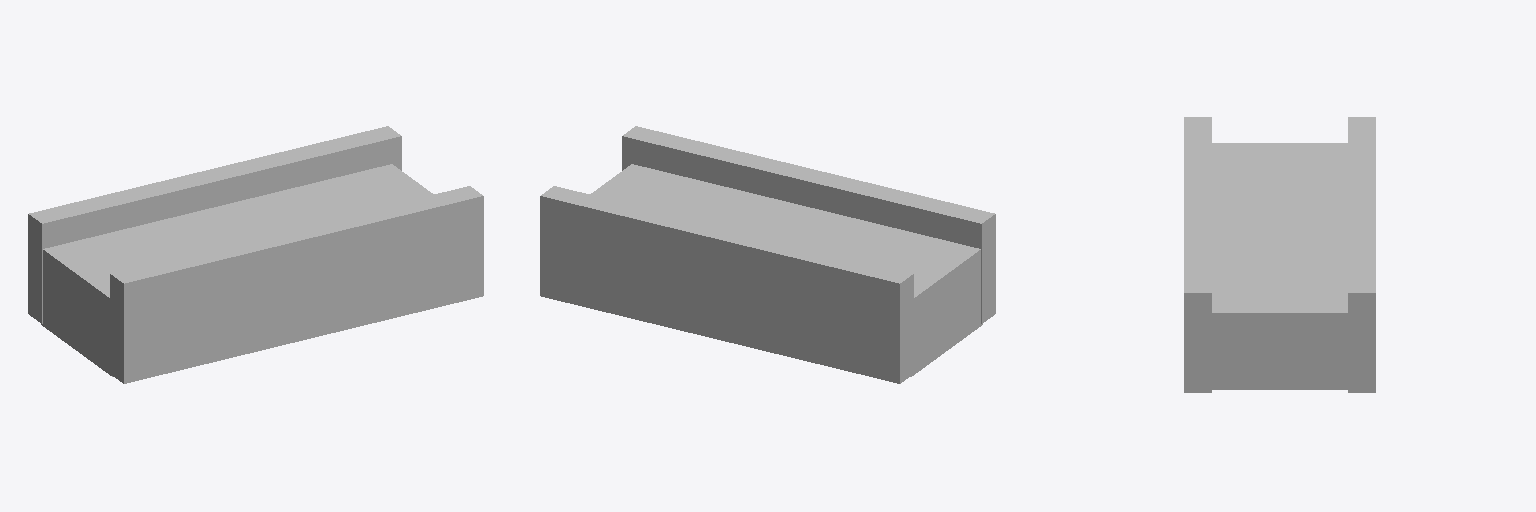
Rendered from AirlockHitbox.obj.
3 renders of one model, left to right at view 1: azimuth 30°, elevation 25°; view 2: azimuth 150°, elevation 25°; view 3: azimuth 270°, elevation 25°, orthographic.
Visible parts, largest first — view 1: Big_Cube_Cube.003, Cube.212_Cube.214, Cube.000_Cube.301, Cube.007_Cube.308, Cube.012_Cube.313, Cube.013_Cube.314, Cube.001_Cube.302, Cube.002_Cube.303, Cube.004_Cube.305, Cube.006_Cube.307, Cube.009_Cube.310, Cube.010_Cube.311 (+19 smaller); view 2: Big_Cube_Cube.003, Cube.014_Cube.315, Cube.015_Cube.316, Cube.022_Cube.323, Cube.027_Cube.328, Cube.028_Cube.329, Cube.016_Cube.317, Cube.017_Cube.318, Cube.019_Cube.320, Cube.021_Cube.322, Cube.024_Cube.325, Cube.025_Cube.326 (+19 smaller); view 3: Big_Cube_Cube.003, Cube.013_Cube.314, Cube.028_Cube.329.
Boxes of the visible parts, box(x1,y1,x2,y2) form: Big_Cube_Cube.003: box(41, 164, 433, 376); Cube.212_Cube.214: box(110, 268, 147, 383); Cube.000_Cube.301: box(135, 262, 171, 377); Cube.007_Cube.308: box(303, 221, 339, 336); Cube.012_Cube.313: box(422, 192, 459, 307); Cube.013_Cube.314: box(447, 186, 483, 301); Cube.001_Cube.302: box(159, 256, 195, 371); Cube.002_Cube.303: box(183, 250, 219, 365); Cube.004_Cube.305: box(230, 239, 267, 354); Cube.006_Cube.307: box(279, 227, 315, 342); Cube.009_Cube.310: box(350, 209, 387, 324); Cube.010_Cube.311: box(374, 203, 411, 319); Big_Cube_Cube.003: box(590, 164, 982, 376); Cube.014_Cube.315: box(876, 268, 913, 383); Cube.015_Cube.316: box(852, 262, 888, 377); Cube.022_Cube.323: box(684, 221, 720, 336); Cube.027_Cube.328: box(564, 192, 601, 307); Cube.028_Cube.329: box(540, 186, 576, 301); Cube.016_Cube.317: box(828, 256, 864, 371); Cube.017_Cube.318: box(804, 250, 840, 365); Cube.019_Cube.320: box(756, 239, 793, 354); Cube.021_Cube.322: box(708, 227, 744, 342); Cube.024_Cube.325: box(636, 209, 673, 324); Cube.025_Cube.326: box(612, 203, 649, 319); Big_Cube_Cube.003: box(1212, 143, 1347, 389); Cube.013_Cube.314: box(1184, 281, 1211, 392); Cube.028_Cube.329: box(1348, 281, 1375, 392).
Bounding box in the file's own units: 30 × 8.15 × 13.81.